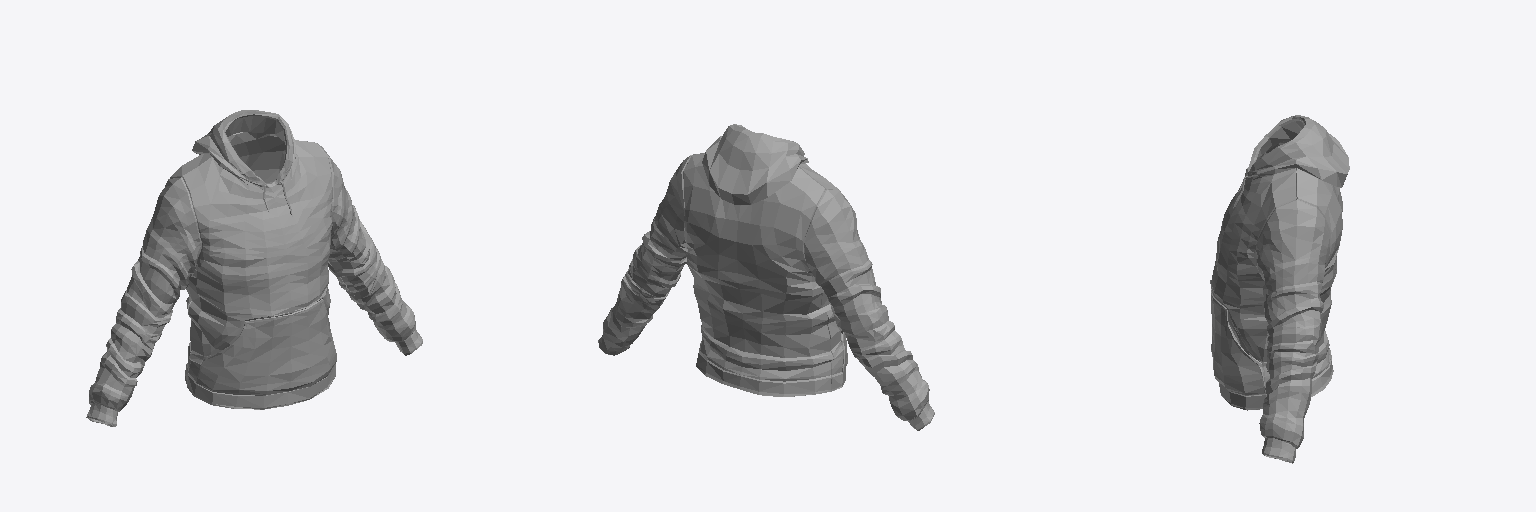
The model's file is hoodie-obj.obj.
3 views of the same model, side by side, from view 1: azimuth 30°, elevation 25°; view 2: azimuth 150°, elevation 25°; view 3: azimuth 270°, elevation 25° (orthographic).
Size of the model in its own units: 25.82 by 19.83 by 9.36.